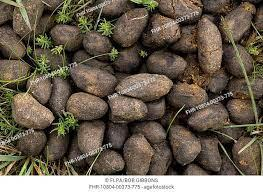Elk: (59, 7, 255, 168)
